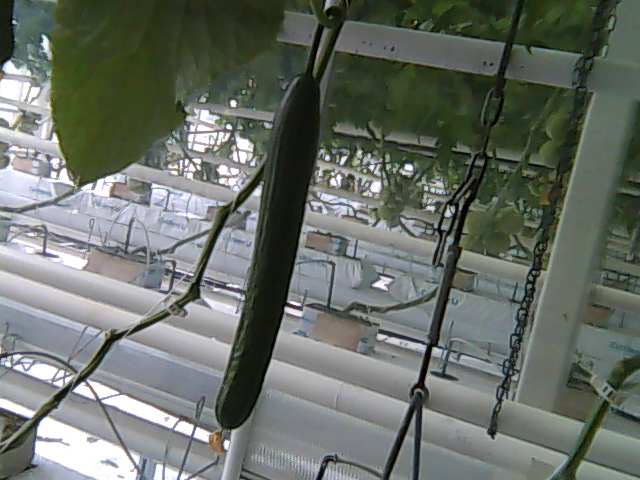concombre: (206, 65, 324, 457)
